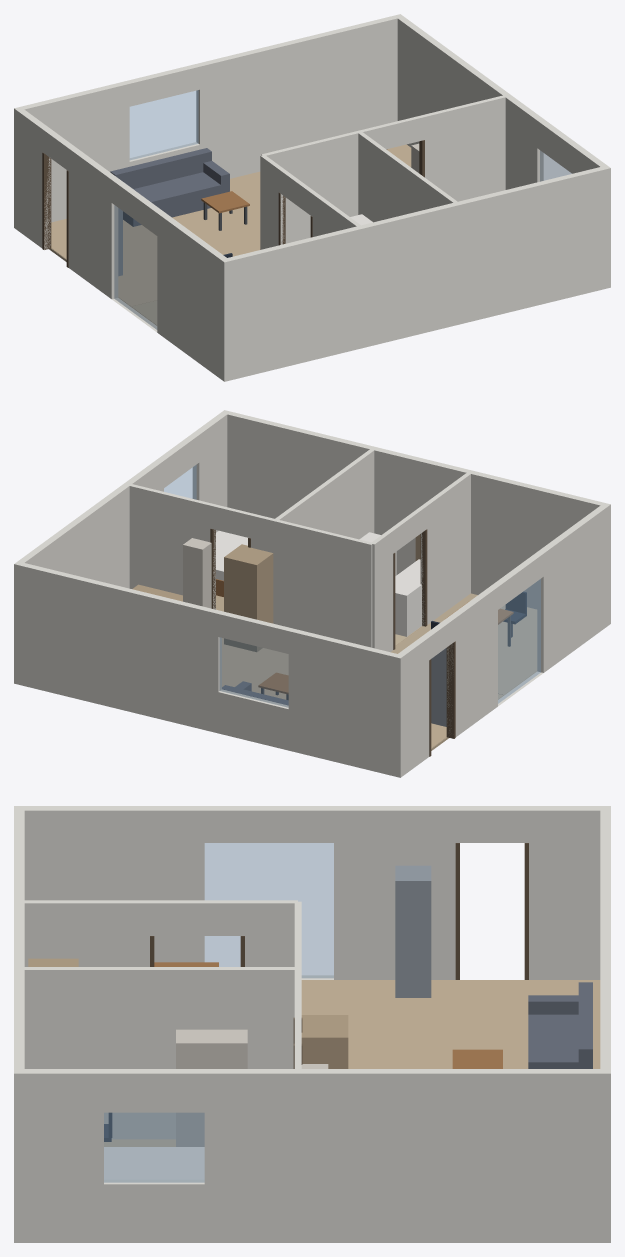
The model's file is apartment-clean.glb.
The picture shows the model from 3 angles, top to bottom: view 1: azimuth 30°, elevation 25°; view 2: azimuth 150°, elevation 25°; view 3: azimuth 270°, elevation 25°; orthographic projection. The views are drawn at different scales.
Parts seen in each view (by area): view 1: wall_south, wall_north (×2), wall_west (×3), wall_east (×2), wall_wall_living_bedroom, floor_living, wall_wall_living_kitchen, wall_wall_kitchen_bedroom, sliding_door_glass, window_curtain_glass, wall_wall_dining_kitchen (×2), sofa_seat (+11 smaller); view 2: wall_north (×2), wall_south, wall_west (×3), wall_wall_living_kitchen, wall_east (×2), wall_wall_dining_kitchen (×2), wall_wall_living_bedroom (×2), wall_wall_kitchen_bedroom, sliding_door_glass, window_curtain_glass, laundry_body, window_curtain_sill (+15 smaller); view 3: wall_east (×2), wall_west (×3), wall_wall_kitchen_bedroom, floor_living, wall_wall_dining_kitchen (×2), sliding_door_glass, bedroom_window_glass, bedroom_window_sill, coat_rack_body, sliding_door_header, wall_south, bedroom_window_header (+11 smaller).
Boxes of the visible parts, left/top/right/bottom form: wall_south: left=220, top=165, right=610, bottom=381; wall_north (×2): left=14, top=14, right=403, bottom=230; wall_west (×3): left=17, top=109, right=226, bottom=378; wall_east (×2): left=397, top=17, right=606, bottom=189; wall_wall_living_bedroom: left=420, top=95, right=505, bottom=201; floor_living: left=51, top=144, right=411, bottom=306; wall_wall_living_kitchen: left=261, top=131, right=359, bottom=243; wall_wall_kitchen_bedroom: left=358, top=131, right=457, bottom=222; sliding_door_glass: left=114, top=205, right=157, bottom=329; window_curtain_glass: left=129, top=90, right=198, bottom=160; wall_wall_dining_kitchen (×2): left=260, top=155, right=360, bottom=249; sofa_seat: left=123, top=172, right=229, bottom=226; wall_north (×2): left=14, top=561, right=404, bottom=777; wall_south: left=221, top=410, right=610, bottom=626; wall_west (×3): left=398, top=505, right=607, bottom=774; wall_wall_living_kitchen: left=274, top=519, right=373, bottom=647; wall_east (×2): left=18, top=413, right=227, bottom=588; wall_wall_dining_kitchen (×2): left=372, top=473, right=470, bottom=651; wall_wall_living_bedroom (×2): left=129, top=484, right=276, bottom=623; wall_wall_kitchen_bedroom: left=275, top=449, right=374, bottom=539; sliding_door_glass: left=498, top=579, right=540, bottom=703; window_curtain_glass: left=219, top=637, right=288, bottom=707; laundry_body: left=224, top=544, right=273, bottom=651; window_curtain_sill: left=218, top=689, right=288, bottom=750; wall_east (×2): left=24, top=1069, right=600, bottom=1242; wall_west (×3): left=24, top=806, right=600, bottom=979; wall_wall_kitchen_bedroom: left=24, top=967, right=297, bottom=1139; floor_living: left=301, top=980, right=599, bottom=1068; wall_wall_dining_kitchen (×2): left=24, top=900, right=297, bottom=966; sliding_door_glass: left=204, top=843, right=333, bottom=978; bedroom_window_glass: left=104, top=1112, right=204, bottom=1182; bedroom_window_sill: left=104, top=1179, right=204, bottom=1242; coat_rack_body: left=395, top=865, right=431, bottom=997; sliding_door_header: left=204, top=806, right=333, bottom=842; wall_south: left=14, top=806, right=24, bottom=1242; bedroom_window_header: left=104, top=1069, right=204, bottom=1112.
Size of the model in its own units: 8.81 by 2.65 by 8.3.
